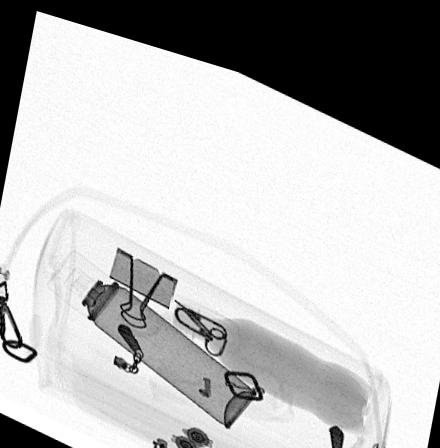Sprayer: (42, 243, 259, 419)
